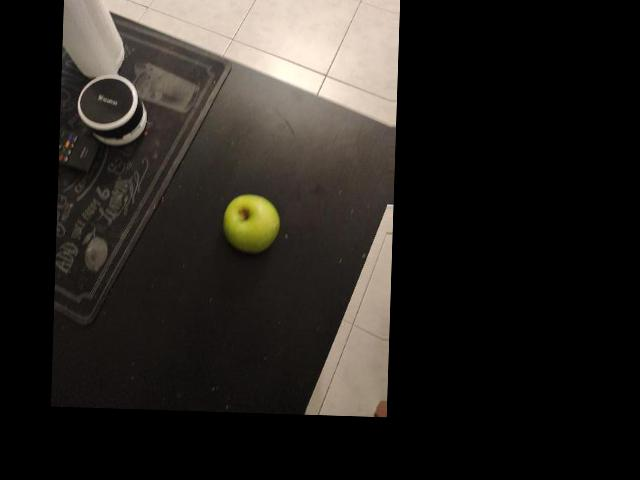apple: (268, 75, 365, 150)
